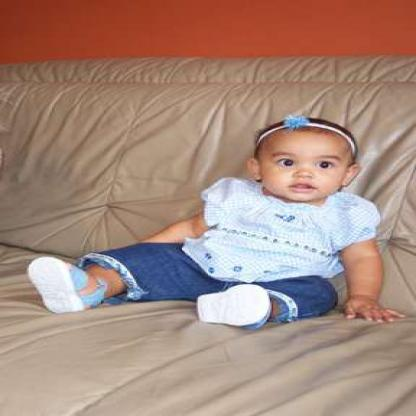sofa: (0, 54, 415, 415)
